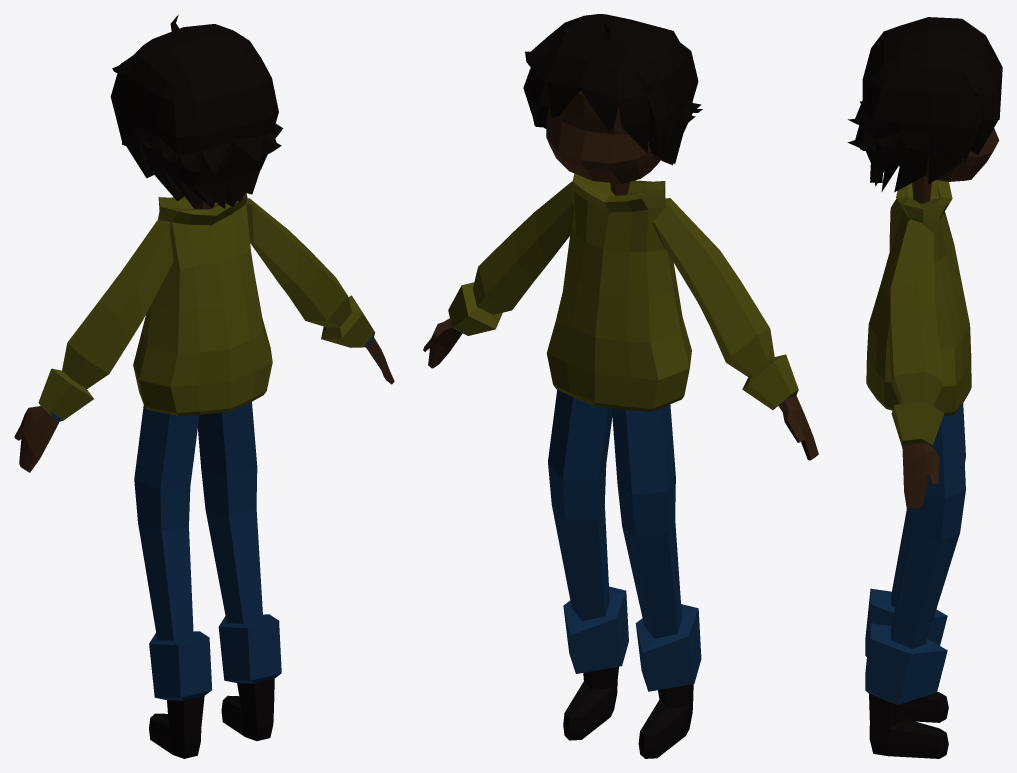
The model's file is protagonista.obj.
3 views of the same model, side by side, from view 1: azimuth 30°, elevation 25°; view 2: azimuth 150°, elevation 25°; view 3: azimuth 270°, elevation 25° (orthographic). The views are drawn at different scales.
Visible parts, largest first — view 1: rosto; view 2: rosto; view 3: rosto.
Boxes of the visible parts, x1,y1,x2,y2 form: rosto: (14,14,394,758); rosto: (423,14,818,758); rosto: (847,17,1002,758).
Bounding box in the file's own units: 0.7618 × 1.4 × 0.2732.
